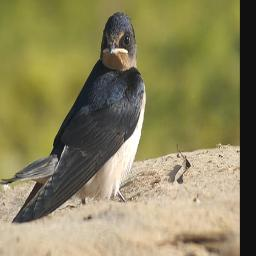Swallow: (0, 12, 147, 223)
